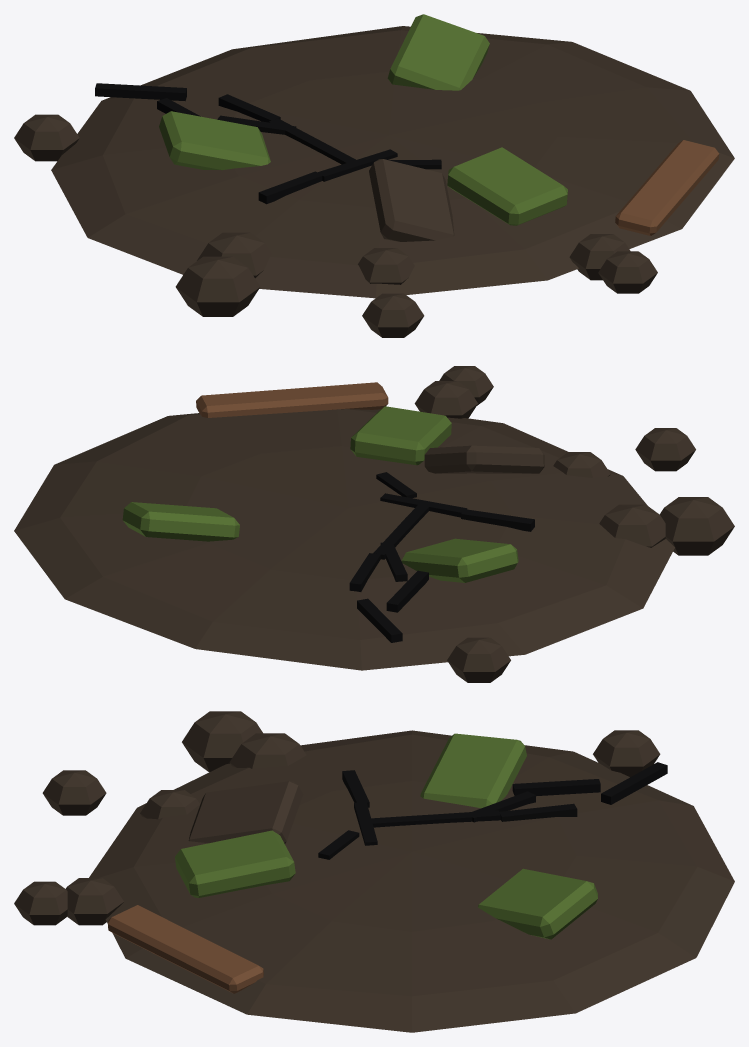
The model's file is hand_mound.glb.
The picture shows the model from 3 angles, top to bottom: view 1: azimuth 30°, elevation 25°; view 2: azimuth 150°, elevation 25°; view 3: azimuth 270°, elevation 25°; orthographic projection. The views are drawn at different scales.
Parts seen in each view (by area): view 1: HandMound; view 2: HandMound; view 3: HandMound.
Part boxes in pixels (box(x1,y1,x2,y2)): HandMound: box(14, 14, 734, 337); HandMound: box(14, 366, 734, 682); HandMound: box(14, 711, 734, 1032).
Size of the model in its own units: 0.7906 by 0.1176 by 0.7967.
